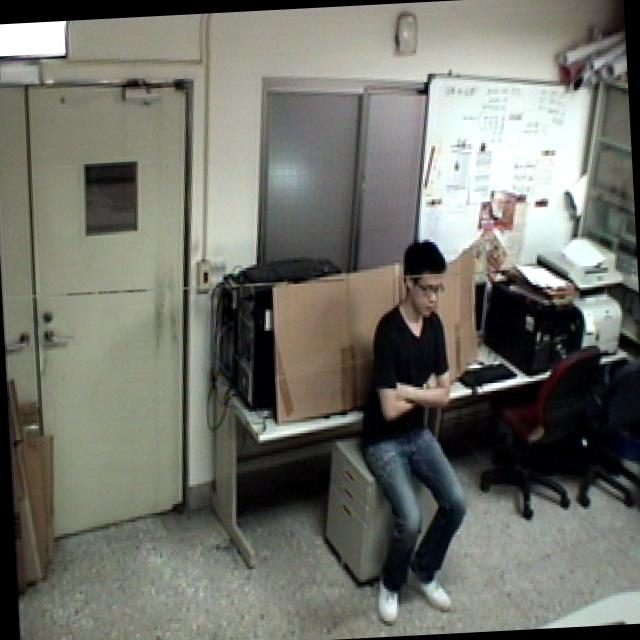sit: (348, 235, 482, 632)
